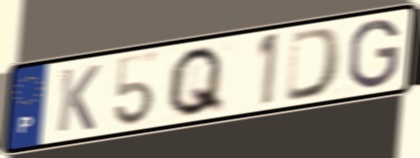1: (255, 29, 282, 109)
5: (111, 48, 166, 129)
D: (282, 25, 345, 105)
G: (346, 16, 402, 91)
K: (54, 63, 103, 135)
Q: (163, 43, 227, 120)
